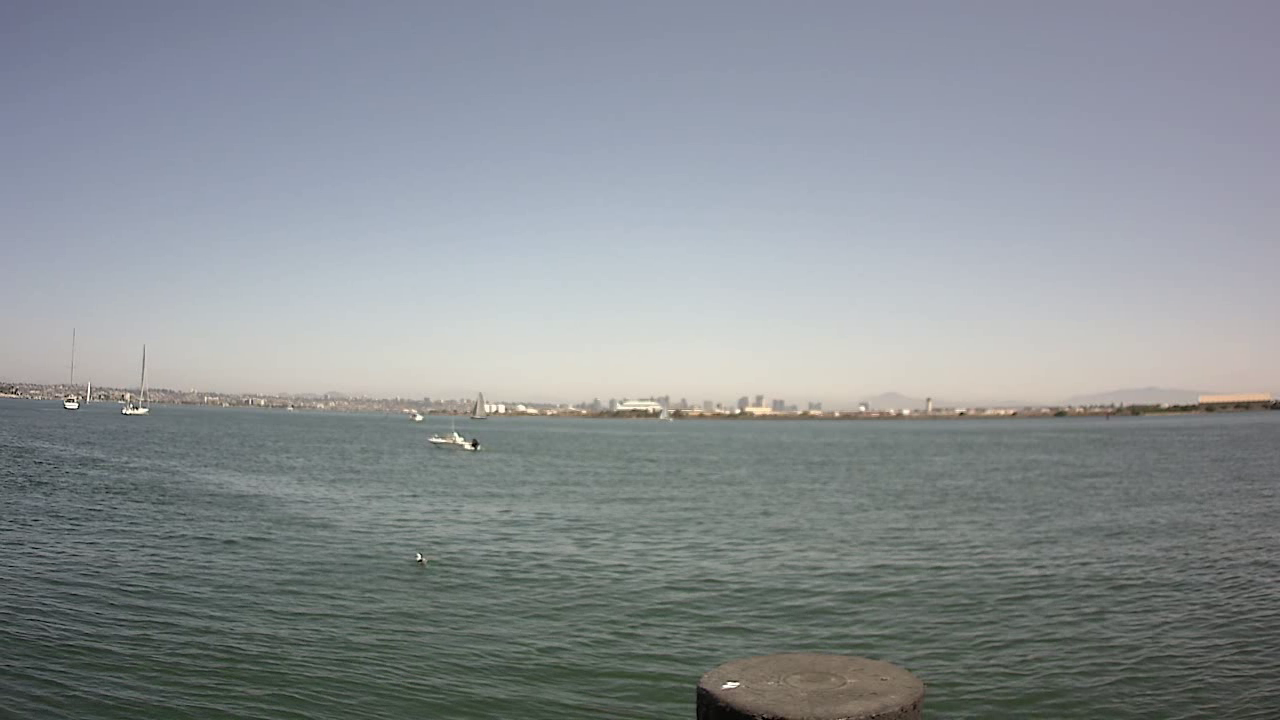target: (423, 423, 495, 460)
